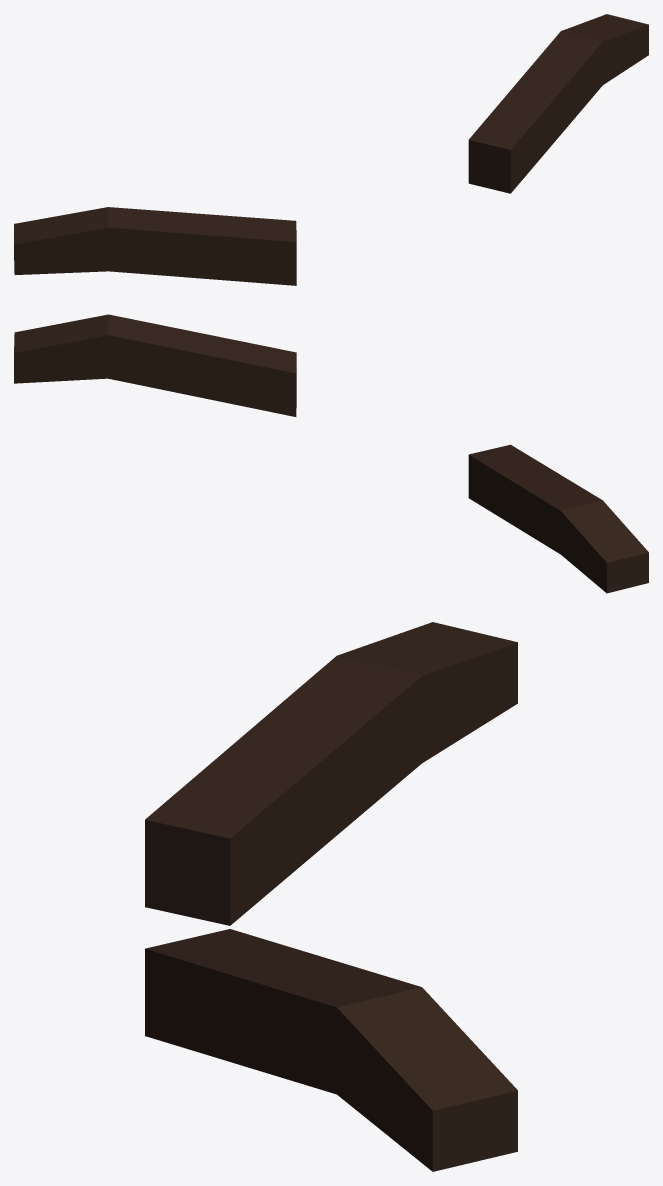
The model's file is DoubtEyebrowsF.glb.
3 views of the same model, one above another, from view 1: azimuth 30°, elevation 25°; view 2: azimuth 150°, elevation 25°; view 3: azimuth 270°, elevation 25° (orthographic). The views are drawn at different scales.
Parts seen in each view (by area): view 1: DoubtEyebrowsF.001; view 2: DoubtEyebrowsF.001; view 3: DoubtEyebrowsF.001.
Part boxes in pixels (left/top/right/bottom): DoubtEyebrowsF.001: left=14, top=14, right=648, bottom=285; DoubtEyebrowsF.001: left=14, top=314, right=648, bottom=593; DoubtEyebrowsF.001: left=145, top=622, right=517, bottom=1171.
Bounding box in the file's own units: 1.49 × 0.2756 × 0.3802.
